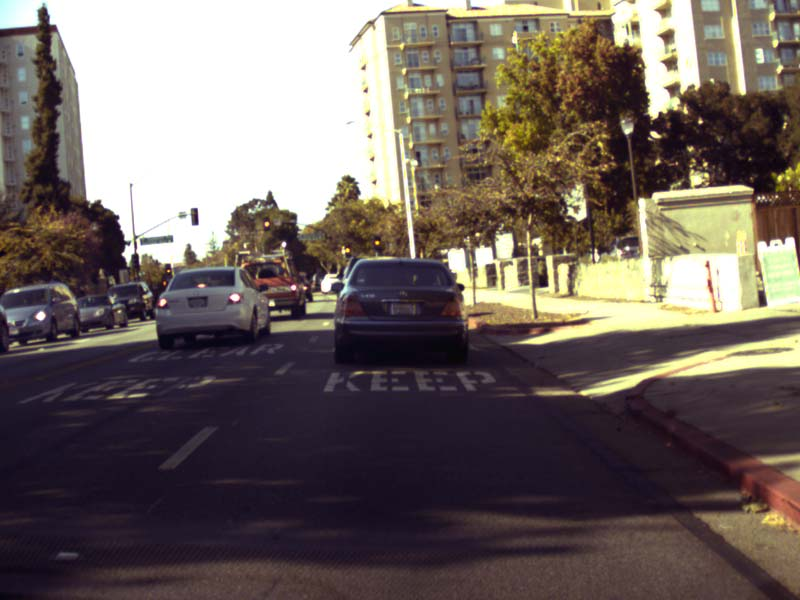Yellow: (373, 234, 381, 249), (263, 216, 270, 231), (344, 242, 351, 257), (164, 263, 171, 276), (162, 276, 166, 286)
